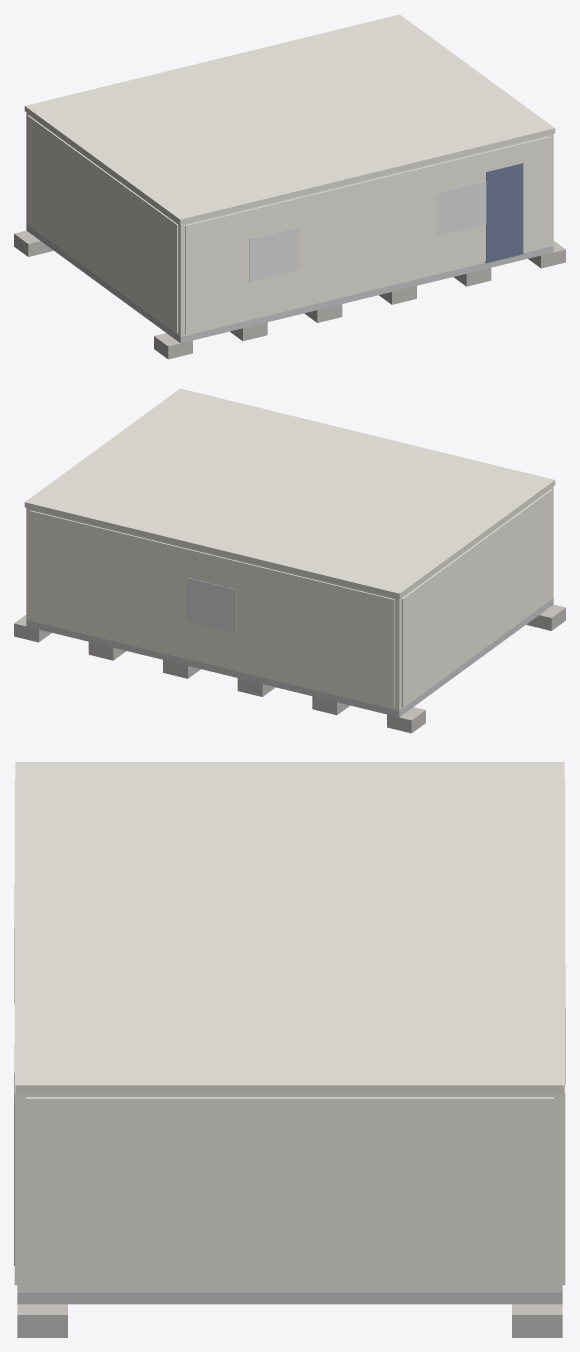
The model's file is Studio-30-Base-IvoryWhite-LOD0.glb.
3 renders of one model, top to bottom at view 1: azimuth 30°, elevation 25°; view 2: azimuth 150°, elevation 25°; view 3: azimuth 270°, elevation 25°, orthographic. The views are drawn at different scales.
Parts seen in each view (by area): view 1: RoofMain, ExteriorPanelsStandard, WindowsStandard, BaseFrame, FoundationBlocks, ExteriorShell, EntryDoor; view 2: RoofMain, ExteriorPanelsStandard, BaseFrame, FoundationBlocks, ExteriorShell, WindowsStandard; view 3: RoofMain, ExteriorPanelsStandard, ExteriorShell, BaseFrame, FoundationBlocks.
Boxes of the visible parts, <box> form: RoofMain: <box>24,14,555,224</box>; ExteriorPanelsStandard: <box>27,115,550,334</box>; WindowsStandard: <box>249,181,486,281</box>; BaseFrame: <box>26,224,553,343</box>; FoundationBlocks: <box>14,230,565,359</box>; ExteriorShell: <box>26,112,553,336</box>; EntryDoor: <box>485,163,523,263</box>; RoofMain: <box>24,388,555,598</box>; ExteriorPanelsStandard: <box>30,489,552,708</box>; BaseFrame: <box>26,598,553,717</box>; FoundationBlocks: <box>14,604,565,733</box>; ExteriorShell: <box>26,486,553,710</box>; WindowsStandard: <box>187,577,236,633</box>; RoofMain: <box>15,762,564,1094</box>; ExteriorPanelsStandard: <box>14,779,565,1289</box>; ExteriorShell: <box>17,1094,562,1292</box>; BaseFrame: <box>17,1292,562,1304</box>; FoundationBlocks: <box>17,1304,562,1337</box>.
Size of the model in its own units: 9.6 by 3.17 by 6.53.
